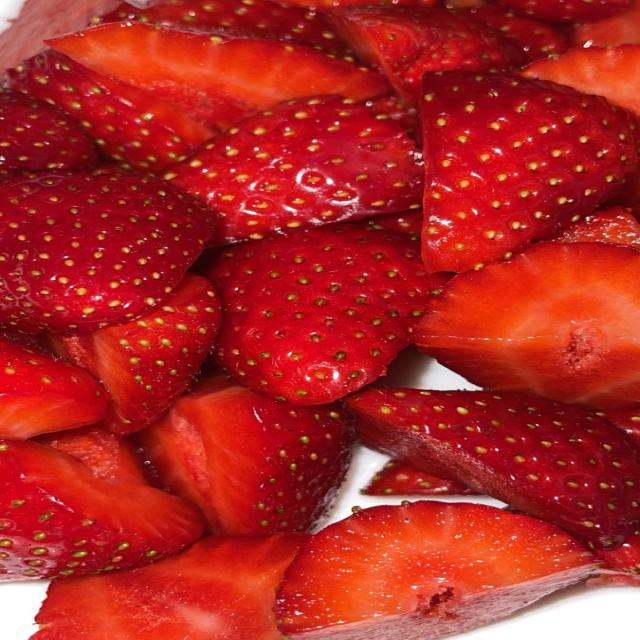strawberry sliced: (347, 389, 639, 550), (277, 501, 593, 639), (421, 71, 638, 271), (206, 224, 447, 404), (165, 96, 423, 245), (414, 242, 639, 410), (48, 23, 388, 129), (0, 172, 216, 332), (139, 375, 351, 533), (33, 533, 307, 639), (0, 440, 202, 580), (47, 274, 220, 435), (8, 50, 215, 173), (330, 6, 525, 106), (102, 0, 349, 57), (0, 339, 107, 438), (520, 44, 639, 115), (0, 0, 118, 69), (0, 88, 97, 171), (35, 424, 146, 483), (464, 4, 569, 61), (543, 207, 639, 249), (362, 460, 475, 495), (491, 0, 631, 23), (571, 0, 639, 47), (359, 210, 422, 237), (604, 406, 639, 447), (287, 0, 364, 12)
